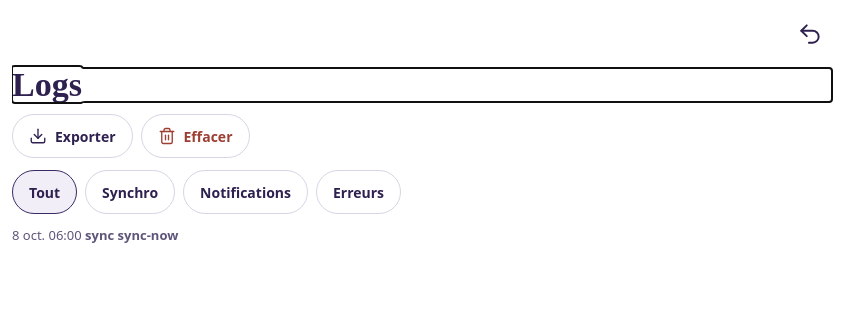
Test case: I-04 / FILES-IOS-01 QA : états d’échec de l’écran Logs › FILES-IOS-01 critère 2 : annuler après un échec efface le message d’échec, sans nouvelle erreur
expect the list is shown: met, box left=12, top=226, right=178, bottom=244
Click the button "Exporter" at (72, 136), box left=12, top=114, right=132, bottom=158
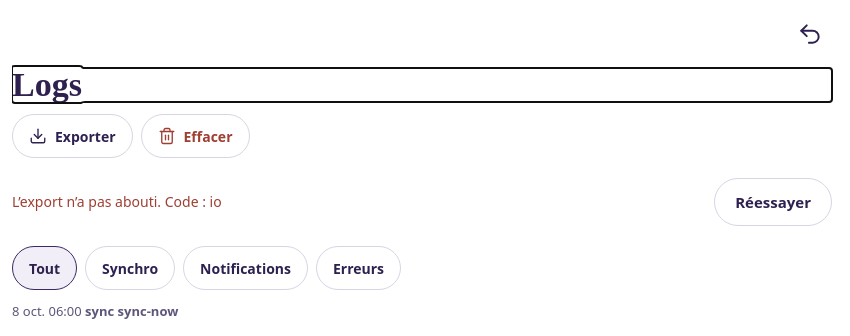
Click the button "Réessayer" at (773, 202), box left=714, top=178, right=832, bottom=226
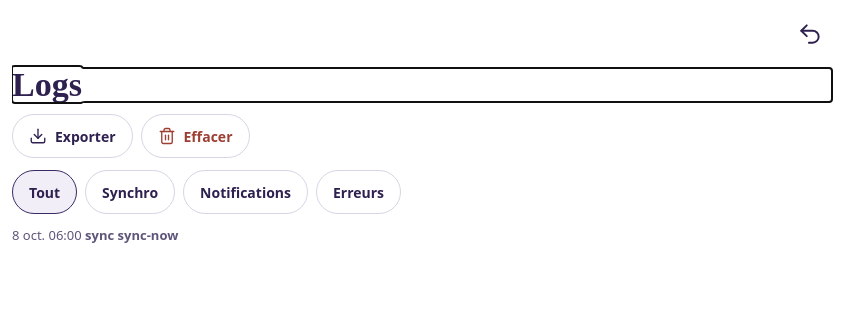
expect the message "L’export n’a pas abouti. Code : io Réessayer" is gone: met
